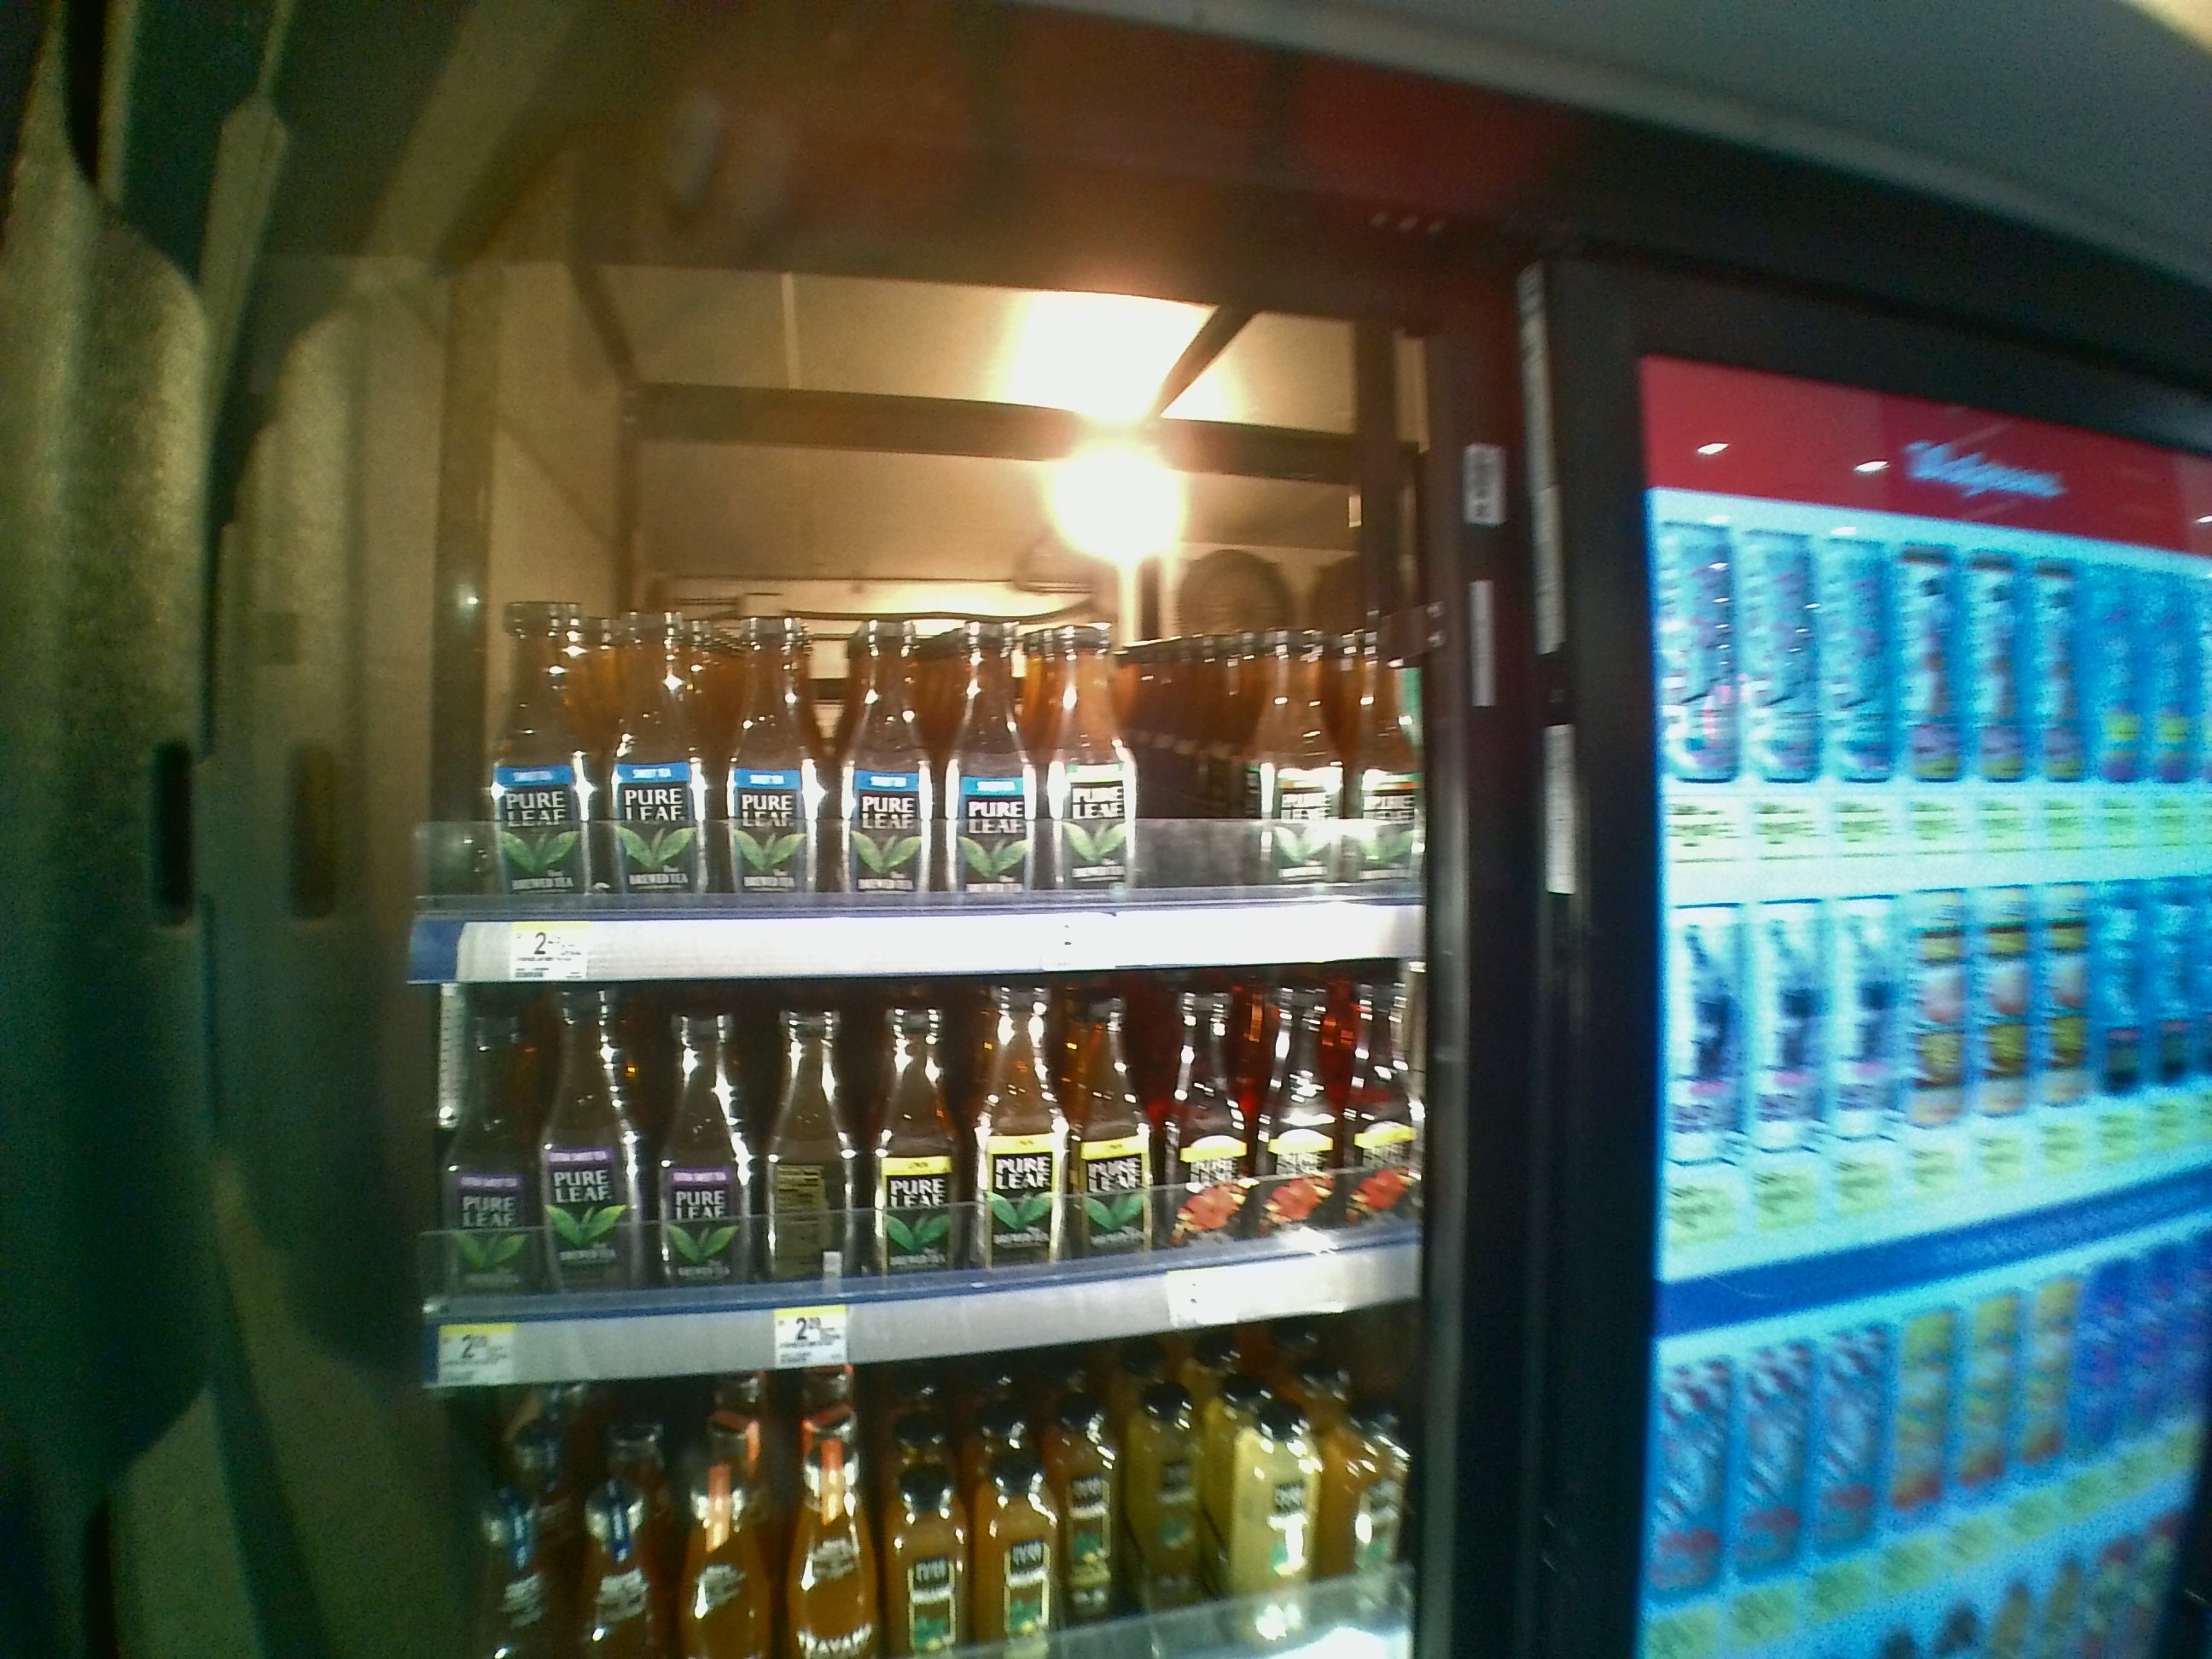shelf: (406, 448, 1428, 983), (421, 997, 1440, 1389)
